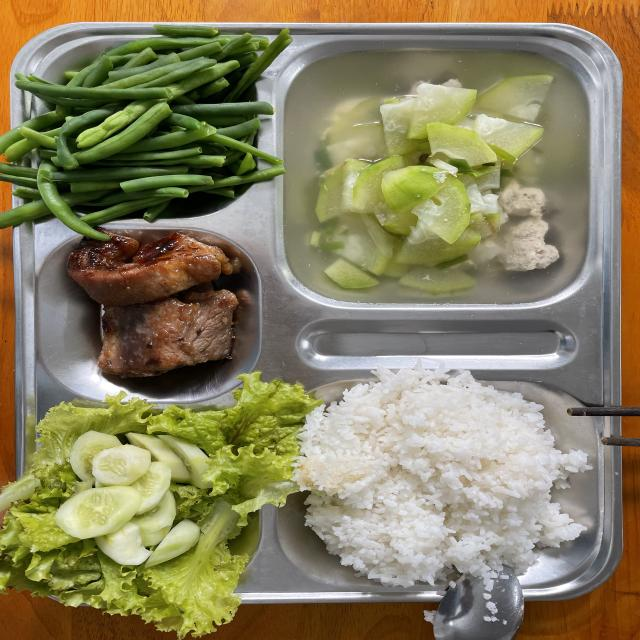com_trang: (323, 402, 562, 564)
